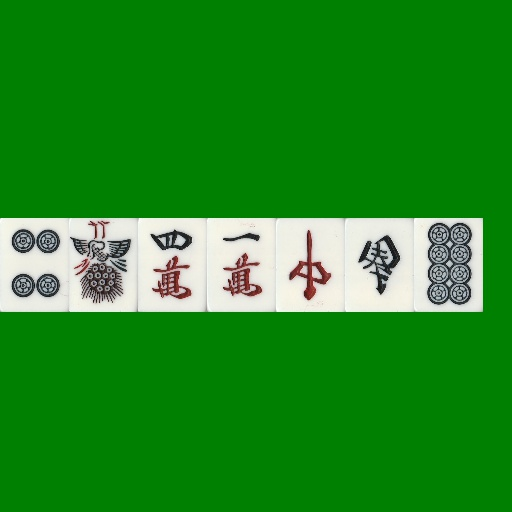1m: (207, 218, 276, 312)
1s: (69, 218, 138, 312)
4m: (138, 218, 207, 312)
4p: (0, 218, 69, 312)
8p: (414, 218, 483, 312)
south: (345, 218, 414, 312)
tyun: (276, 218, 345, 312)
